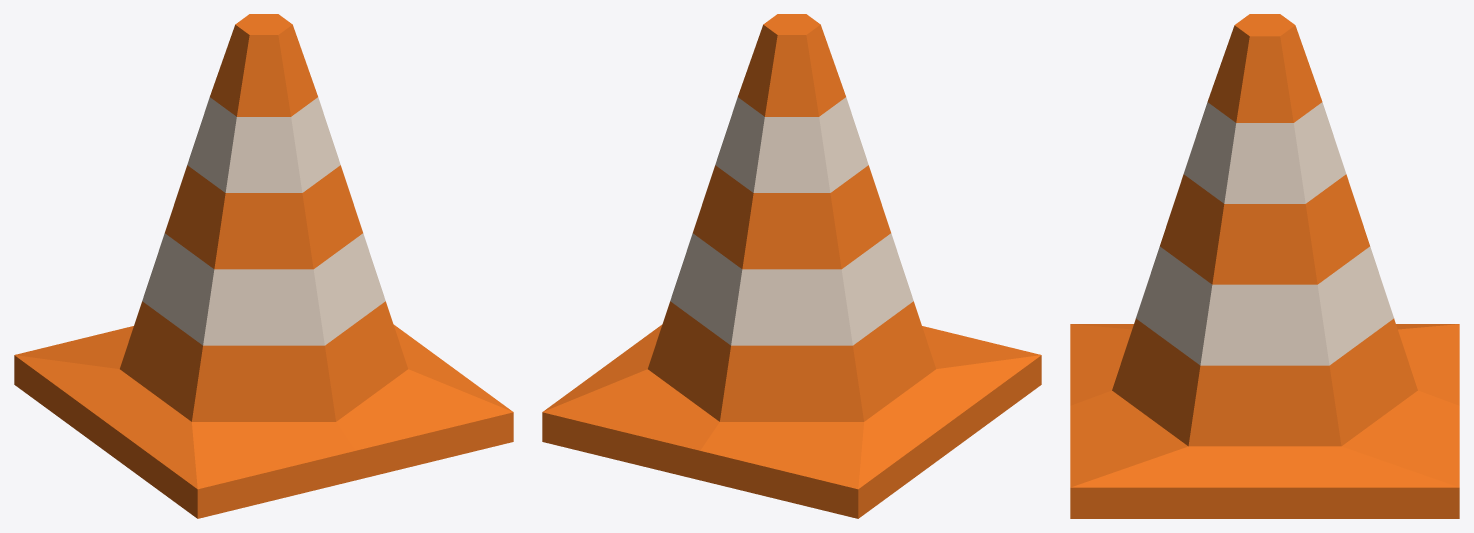
The model's file is traffic-cone.glb.
3 views of the same model, side by side, from view 1: azimuth 30°, elevation 25°; view 2: azimuth 150°, elevation 25°; view 3: azimuth 270°, elevation 25° (orthographic). The views are drawn at different scales.
Parts seen in each view (by area): view 1: traffic-cone; view 2: traffic-cone; view 3: traffic-cone.
Part boxes in pixels (<box>): traffic-cone: <box>14,14,513,518</box>; traffic-cone: <box>542,14,1041,518</box>; traffic-cone: <box>1070,14,1459,518</box>.
Size of the model in its own units: 0.6424 by 0.7551 by 0.646.
Materials: 1 (1 with a texture image).
